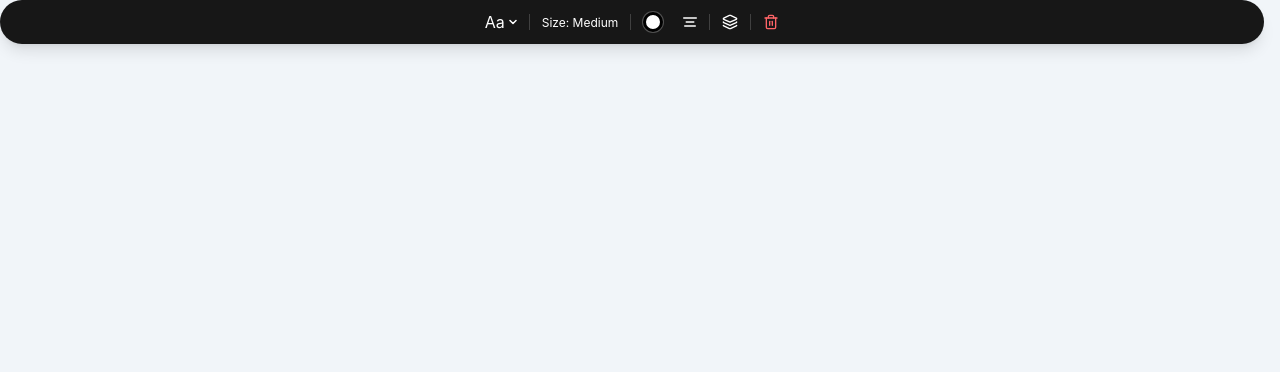
Scenario: PropertyBar › font, color and alignment › choosing a font sends it as a style patch and closes the list
Click the button with aria-label "Font: Anton" at coordinates (501, 22), box [477,6,525,38]
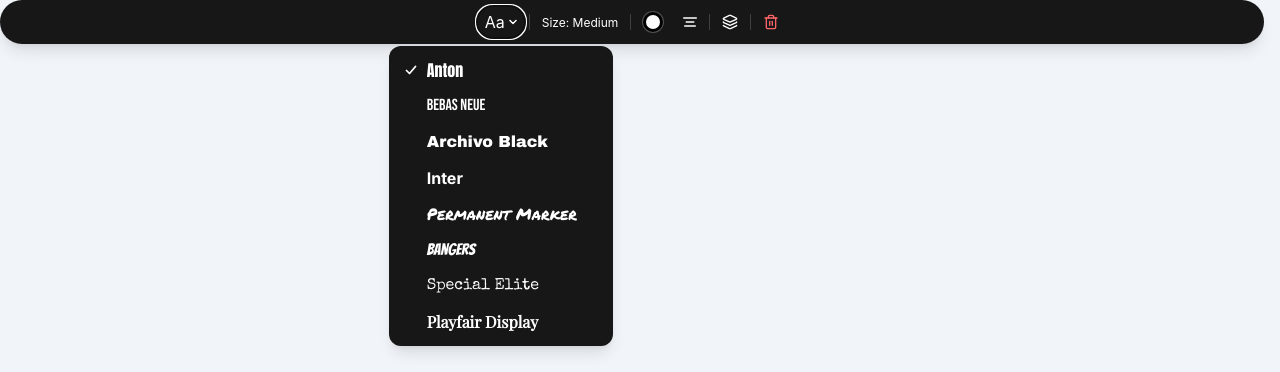
Click the menu item "Bebas Neue" at coordinates (501, 106), box [395,88,607,124]
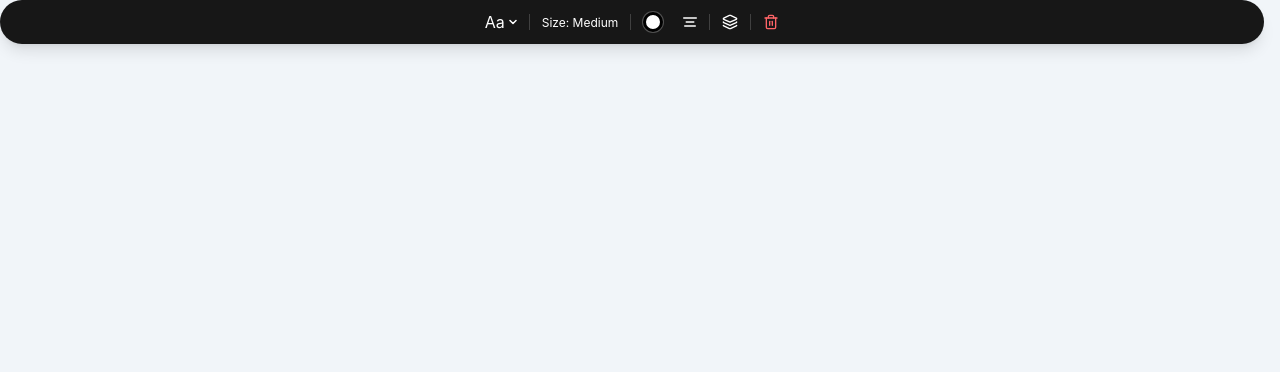
Result: the menu "Fonts" is gone
